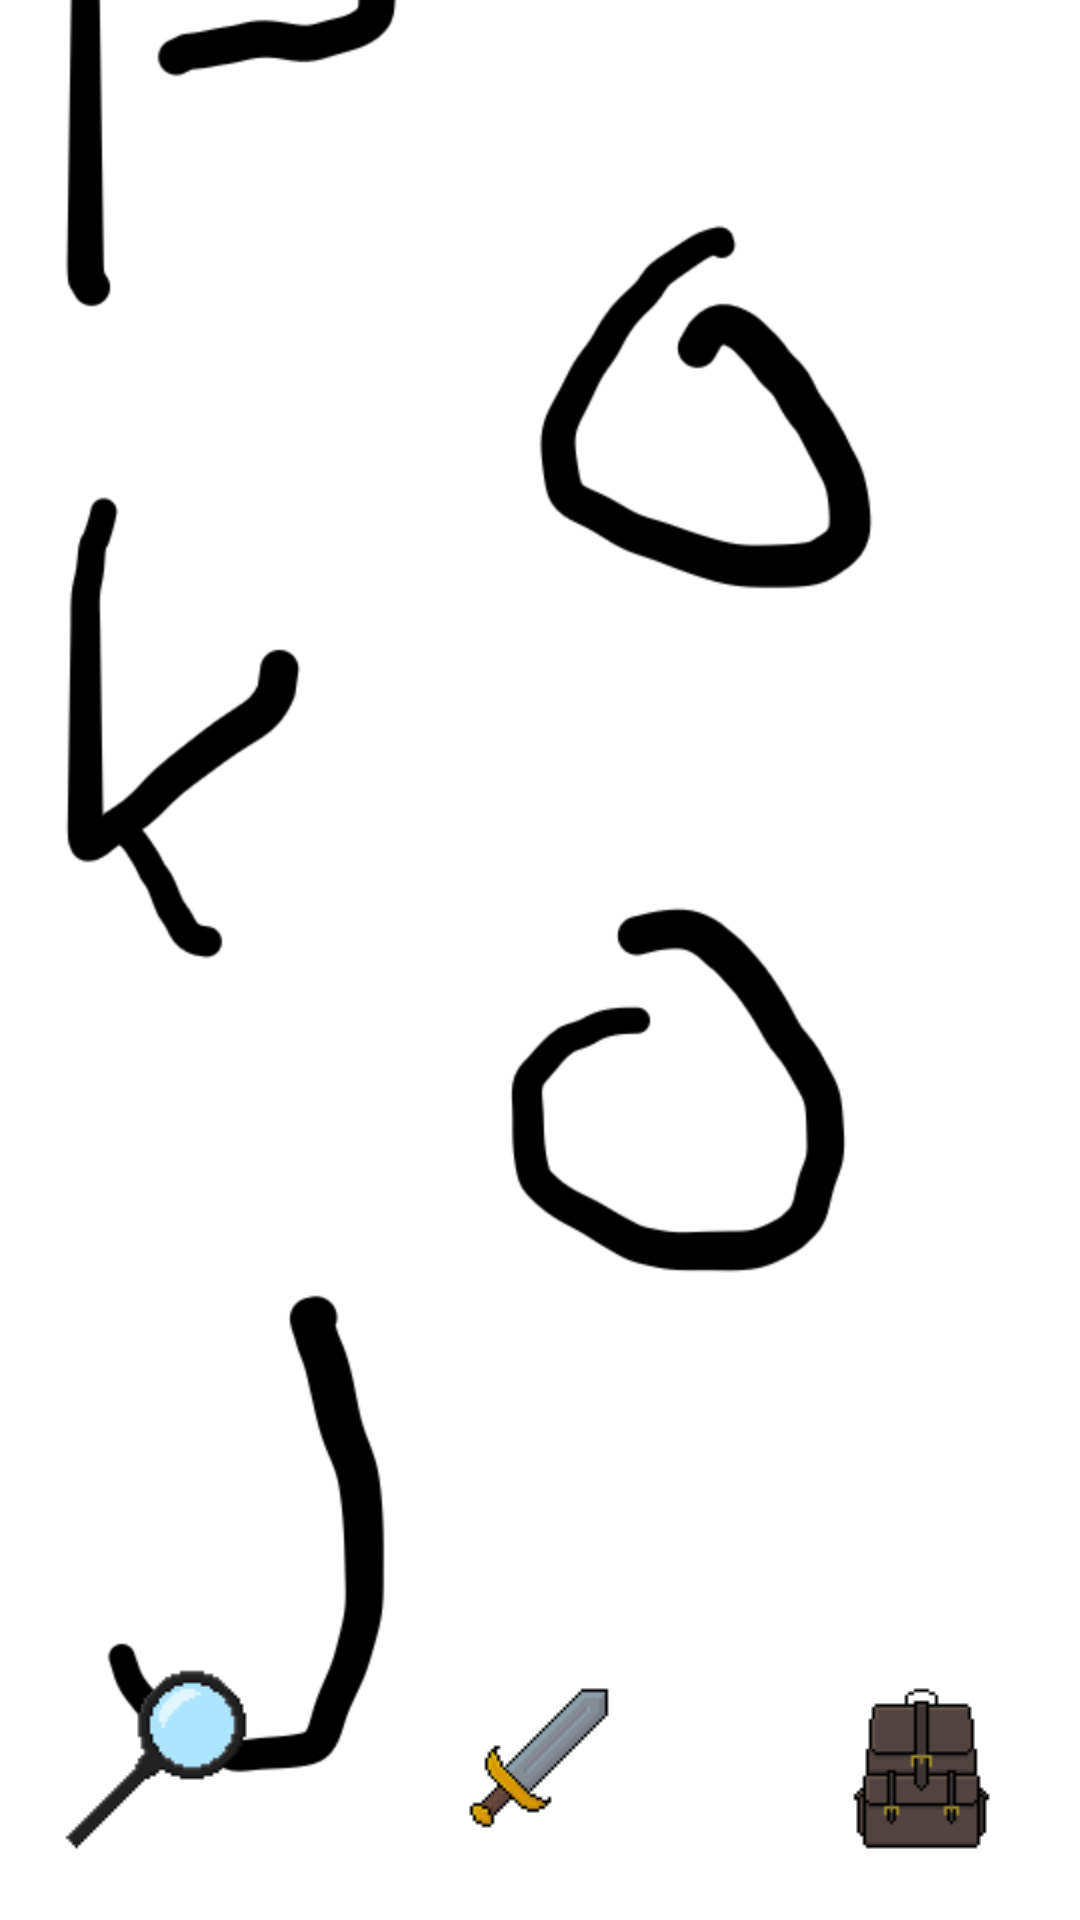

Point at icon controls on the screen. Image size 1080*1920, points as [x,y].
batoh: [921,1768]
lupa: [164,1749]
nablizko: [539,1758]
